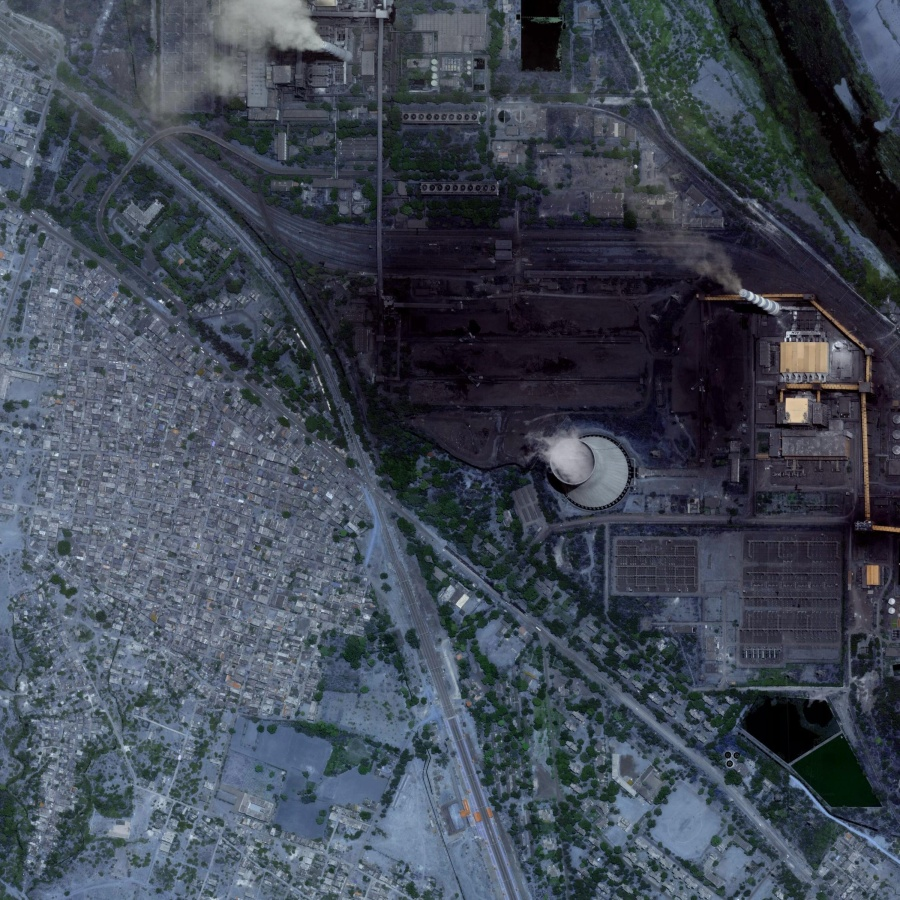PowerPlant: (348, 188, 841, 542)
